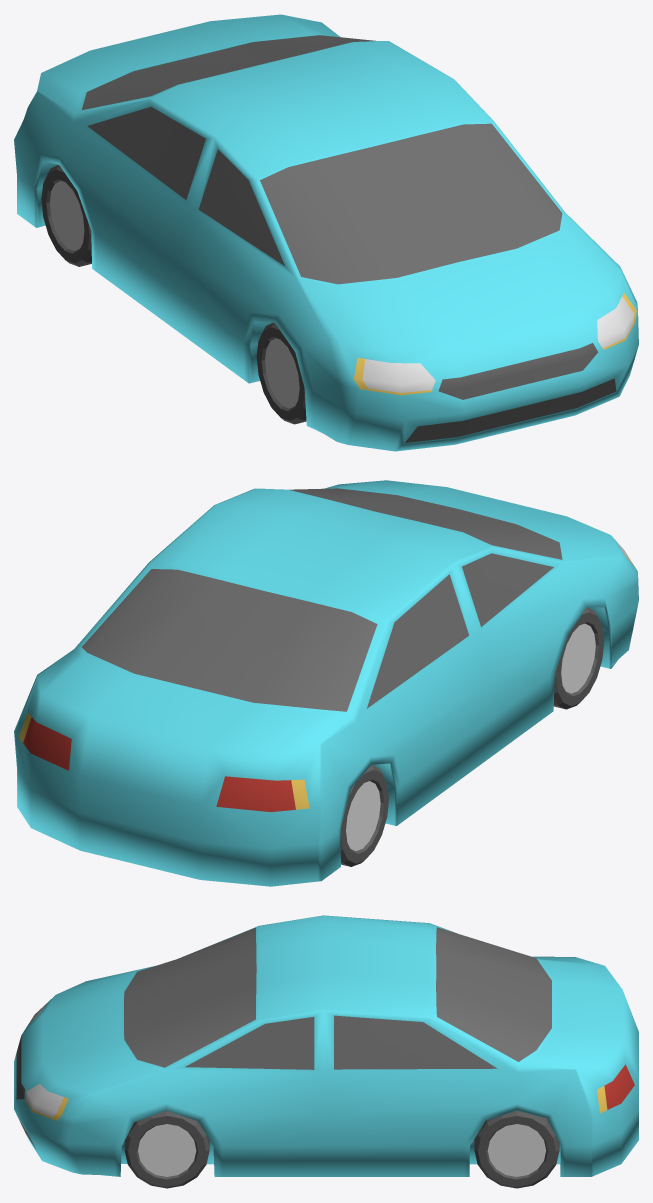
Rendered from car2.glb.
The picture shows the model from 3 angles, top to bottom: view 1: azimuth 30°, elevation 25°; view 2: azimuth 150°, elevation 25°; view 3: azimuth 270°, elevation 25°; orthographic projection. The views are drawn at different scales.
Parts seen in each view (by area): view 1: Cube, Cylinder.001, Cylinder; view 2: Cube, Cylinder.001, Cylinder; view 3: Cube, Cylinder.001, Cylinder.
Boxes of the visible parts, x1=… form: Cube: x1=14, y1=14, x2=638, y2=451; Cylinder.001: x1=41, y1=165, x2=91, y2=266; Cylinder: x1=256, y1=322, x2=306, y2=424; Cube: x1=14, y1=480, x2=638, y2=886; Cylinder.001: x1=340, y1=765, x2=388, y2=866; Cylinder: x1=553, y1=607, x2=604, y2=709; Cube: x1=14, y1=915, x2=638, y2=1176; Cylinder.001: x1=474, y1=1110, x2=559, y2=1188; Cylinder: x1=124, y1=1110, x2=209, y2=1188.
Bounding box in the file's own units: 2.72 × 1.76 × 5.75.
